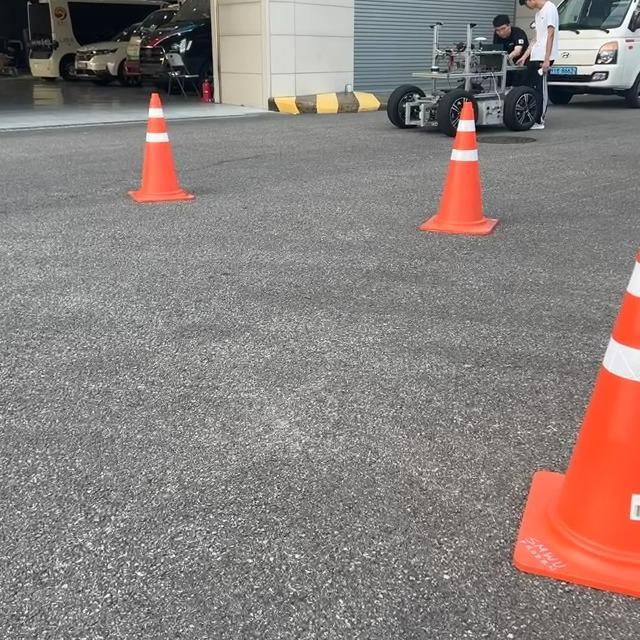fallen_object: (513, 222, 640, 604), (383, 98, 529, 245), (106, 83, 229, 212)
